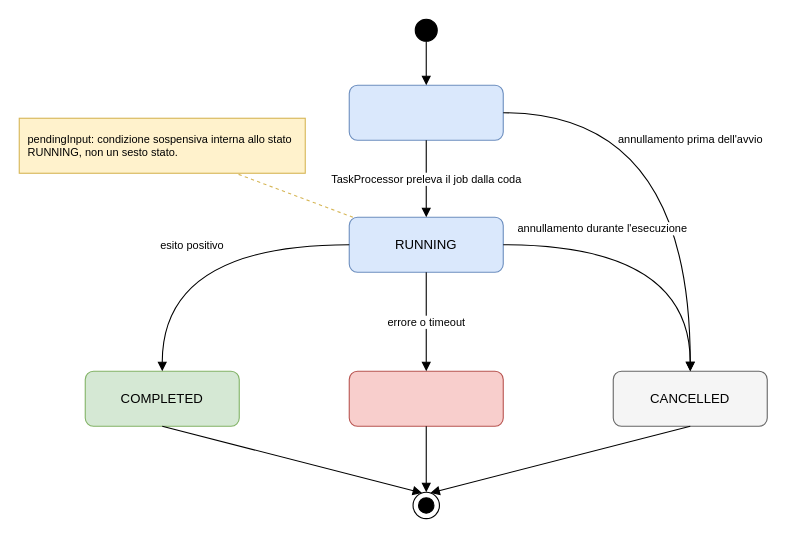
Some shapes in this 787 by 538 pixel diagram are drawn without their labels. The shapes that lost their labels are listed below. From the top down, each one's centre as x and y in pixels, then its label:
At (425,112): "PENDING".
At (425,398): "FAILED".
